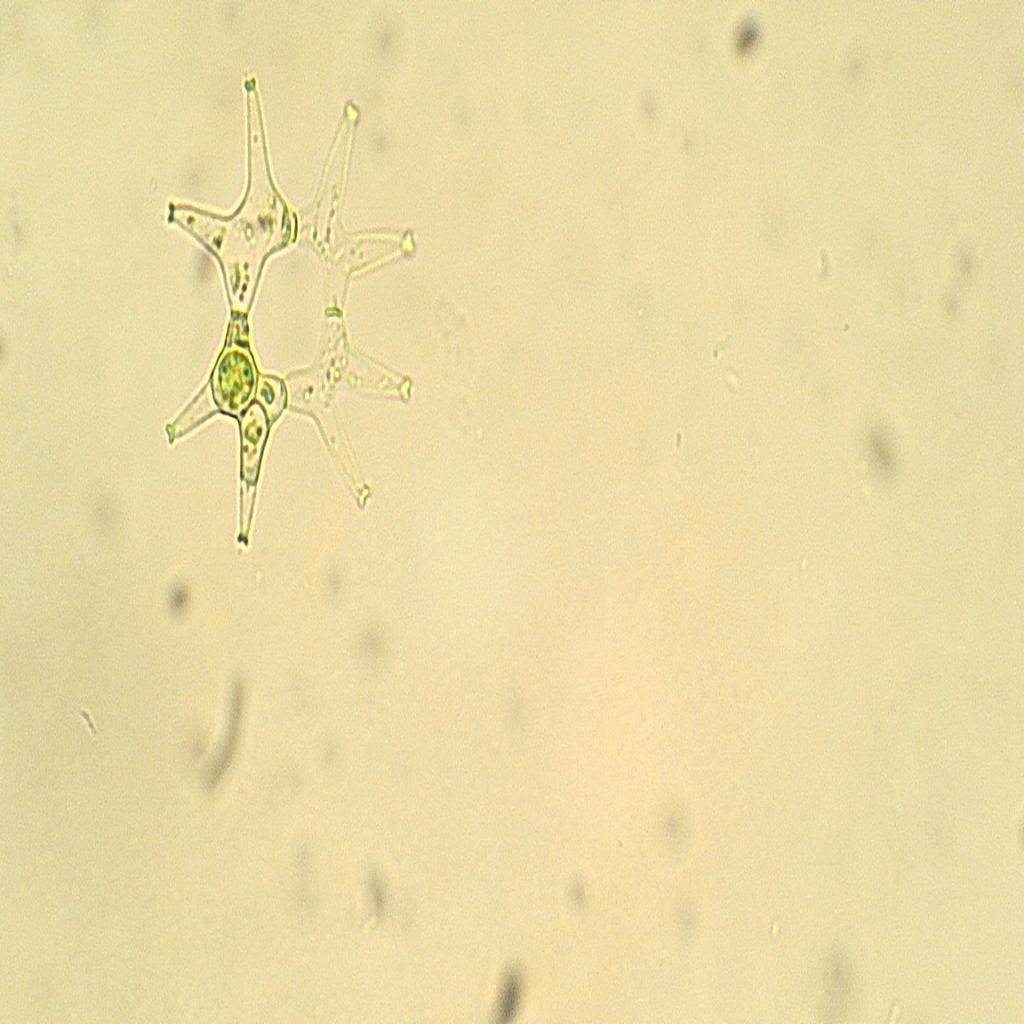Pediastrum_75TH: (136, 63, 455, 564)
